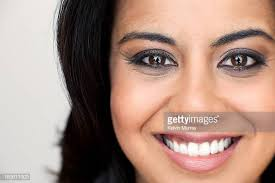indian_female: (92, 1, 270, 183)
